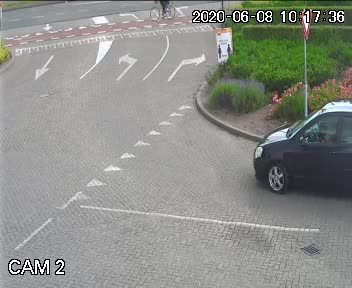car: (237, 75, 352, 209)
